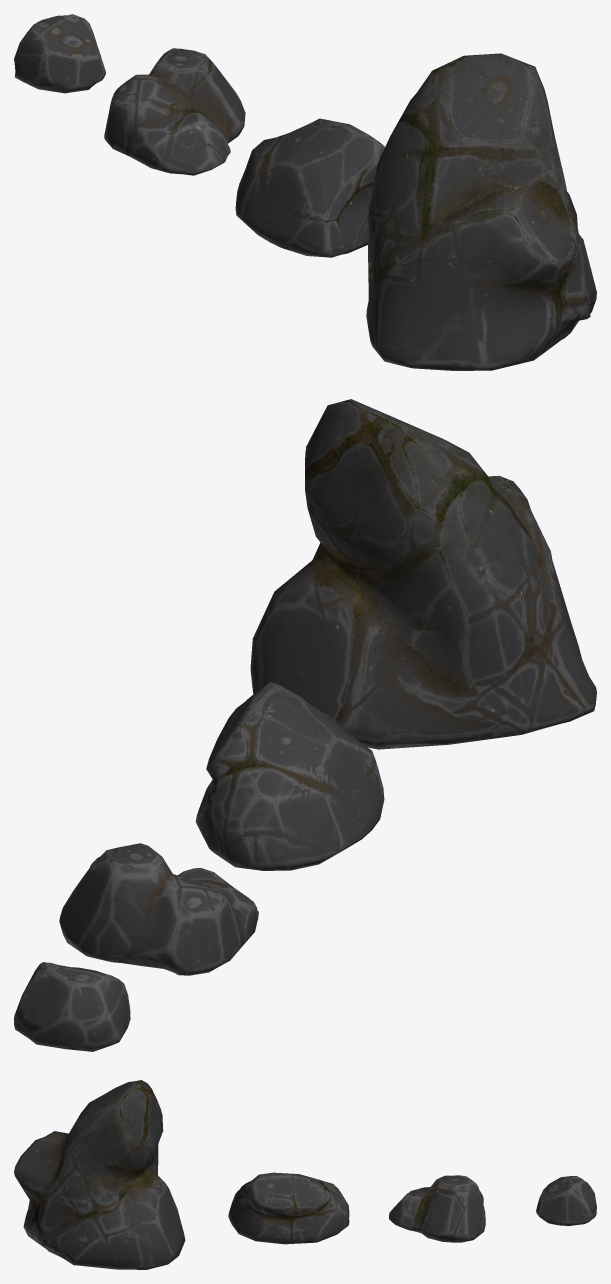
File: stylized_rocks-f247926b.glb
3 renders of one model, top to bottom at view 1: azimuth 30°, elevation 25°; view 2: azimuth 150°, elevation 25°; view 3: azimuth 270°, elevation 25°, orthographic. The views are drawn at different scales.
Visible parts, largest first — view 1: rock4_low, rock3_low, rock2_low, rock1_low; view 2: rock4_low, rock3_low, rock2_low, rock1_low; view 3: rock4_low, rock3_low, rock2_low, rock1_low.
Boxes of the visible parts, x1=… form: rock4_low: x1=366, y1=53, x2=596, y2=370; rock3_low: x1=235, y1=118, x2=384, y2=257; rock2_low: x1=104, y1=48, x2=245, y2=175; rock1_low: x1=14, y1=14, x2=105, y2=93; rock4_low: x1=250, y1=399, x2=596, y2=749; rock3_low: x1=195, y1=681, x2=384, y2=870; rock2_low: x1=59, y1=843, x2=258, y2=975; rock1_low: x1=14, y1=962, x2=130, y2=1051; rock4_low: x1=14, y1=1080, x2=185, y2=1269; rock3_low: x1=228, y1=1172, x2=349, y2=1244; rock2_low: x1=389, y1=1175, x2=485, y2=1242; rock1_low: x1=536, y1=1176, x2=596, y2=1226.
Bounding box in the file's own units: 4.72 × 4.85 × 16.04.
1 material, 1 textured.
